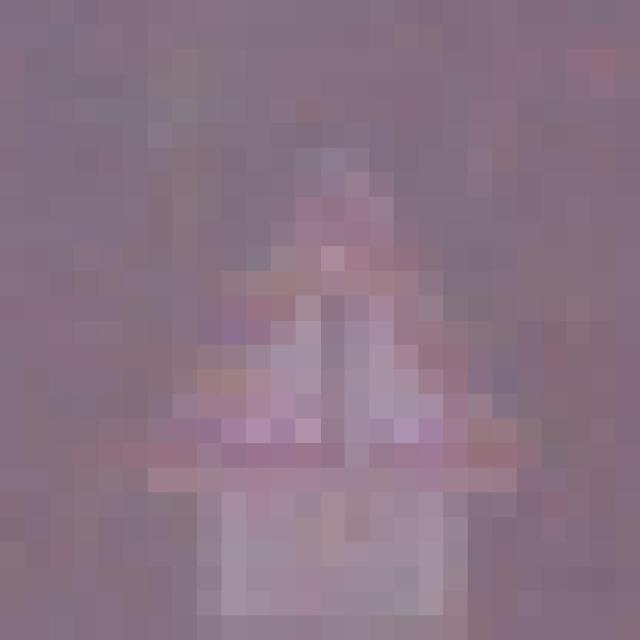Attention Please-: (123, 148, 566, 517)
